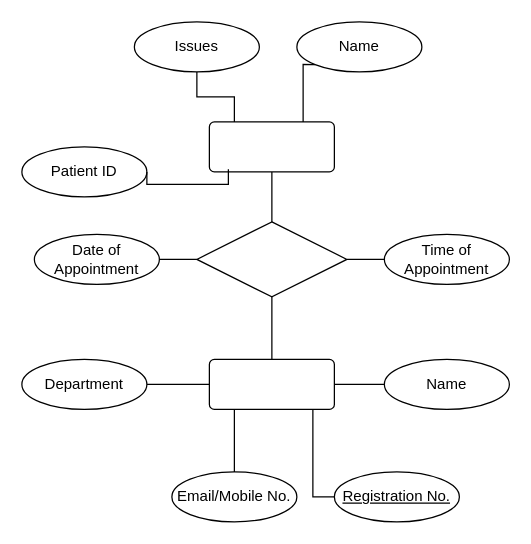
The diagram is 531 pixels wide and 544 high, and some of its shapes have lost their labels. The centre of each missing label's shape, as x and y in pixels:
Appointed: [271,259]
Doctor: [271,383]
Patient: [271,146]
